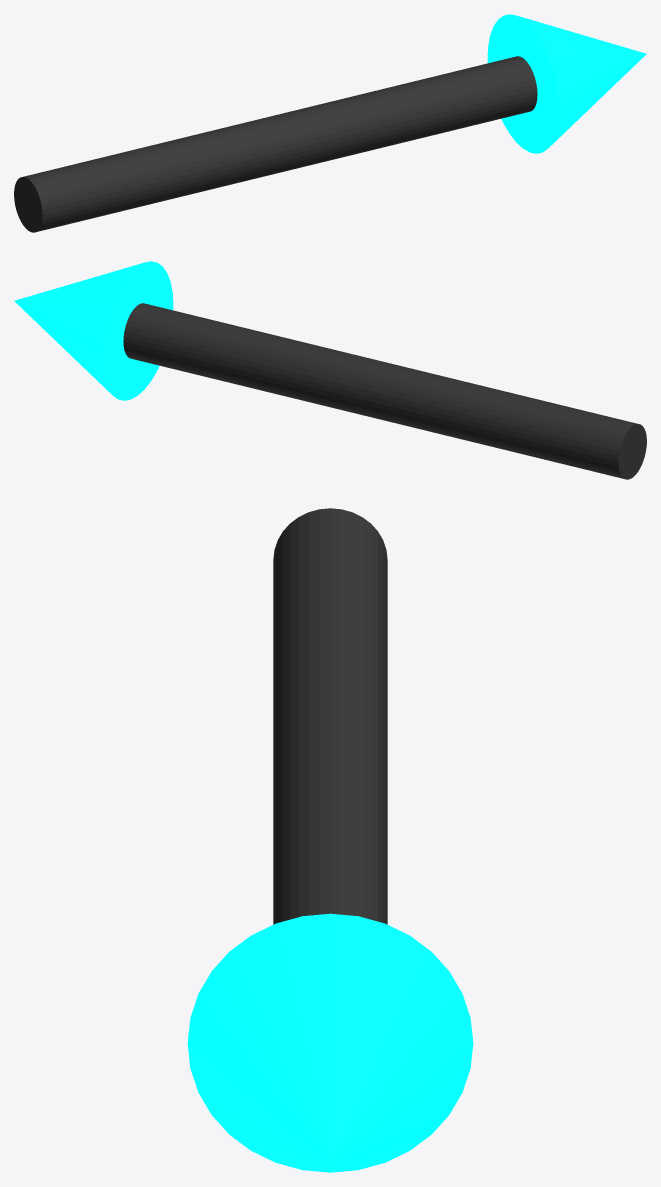
Rendered from arrow.glb.
3 views of the same model, one above another, from view 1: azimuth 30°, elevation 25°; view 2: azimuth 150°, elevation 25°; view 3: azimuth 270°, elevation 25° (orthographic). The views are drawn at different scales.
Parts seen in each view (by area): view 1: ArrowShaft, ArrowTip; view 2: ArrowShaft, ArrowTip; view 3: ArrowTip, ArrowShaft.
Boxes of the visible parts, x1,y1,x2,y2 form: ArrowShaft: (14, 56, 537, 232); ArrowTip: (487, 14, 646, 153); ArrowShaft: (123, 303, 646, 479); ArrowTip: (14, 261, 173, 400); ArrowTip: (187, 913, 473, 1172); ArrowShaft: (273, 508, 387, 924).
Size of the model in its own units: 1 by 0.2 by 0.2.
